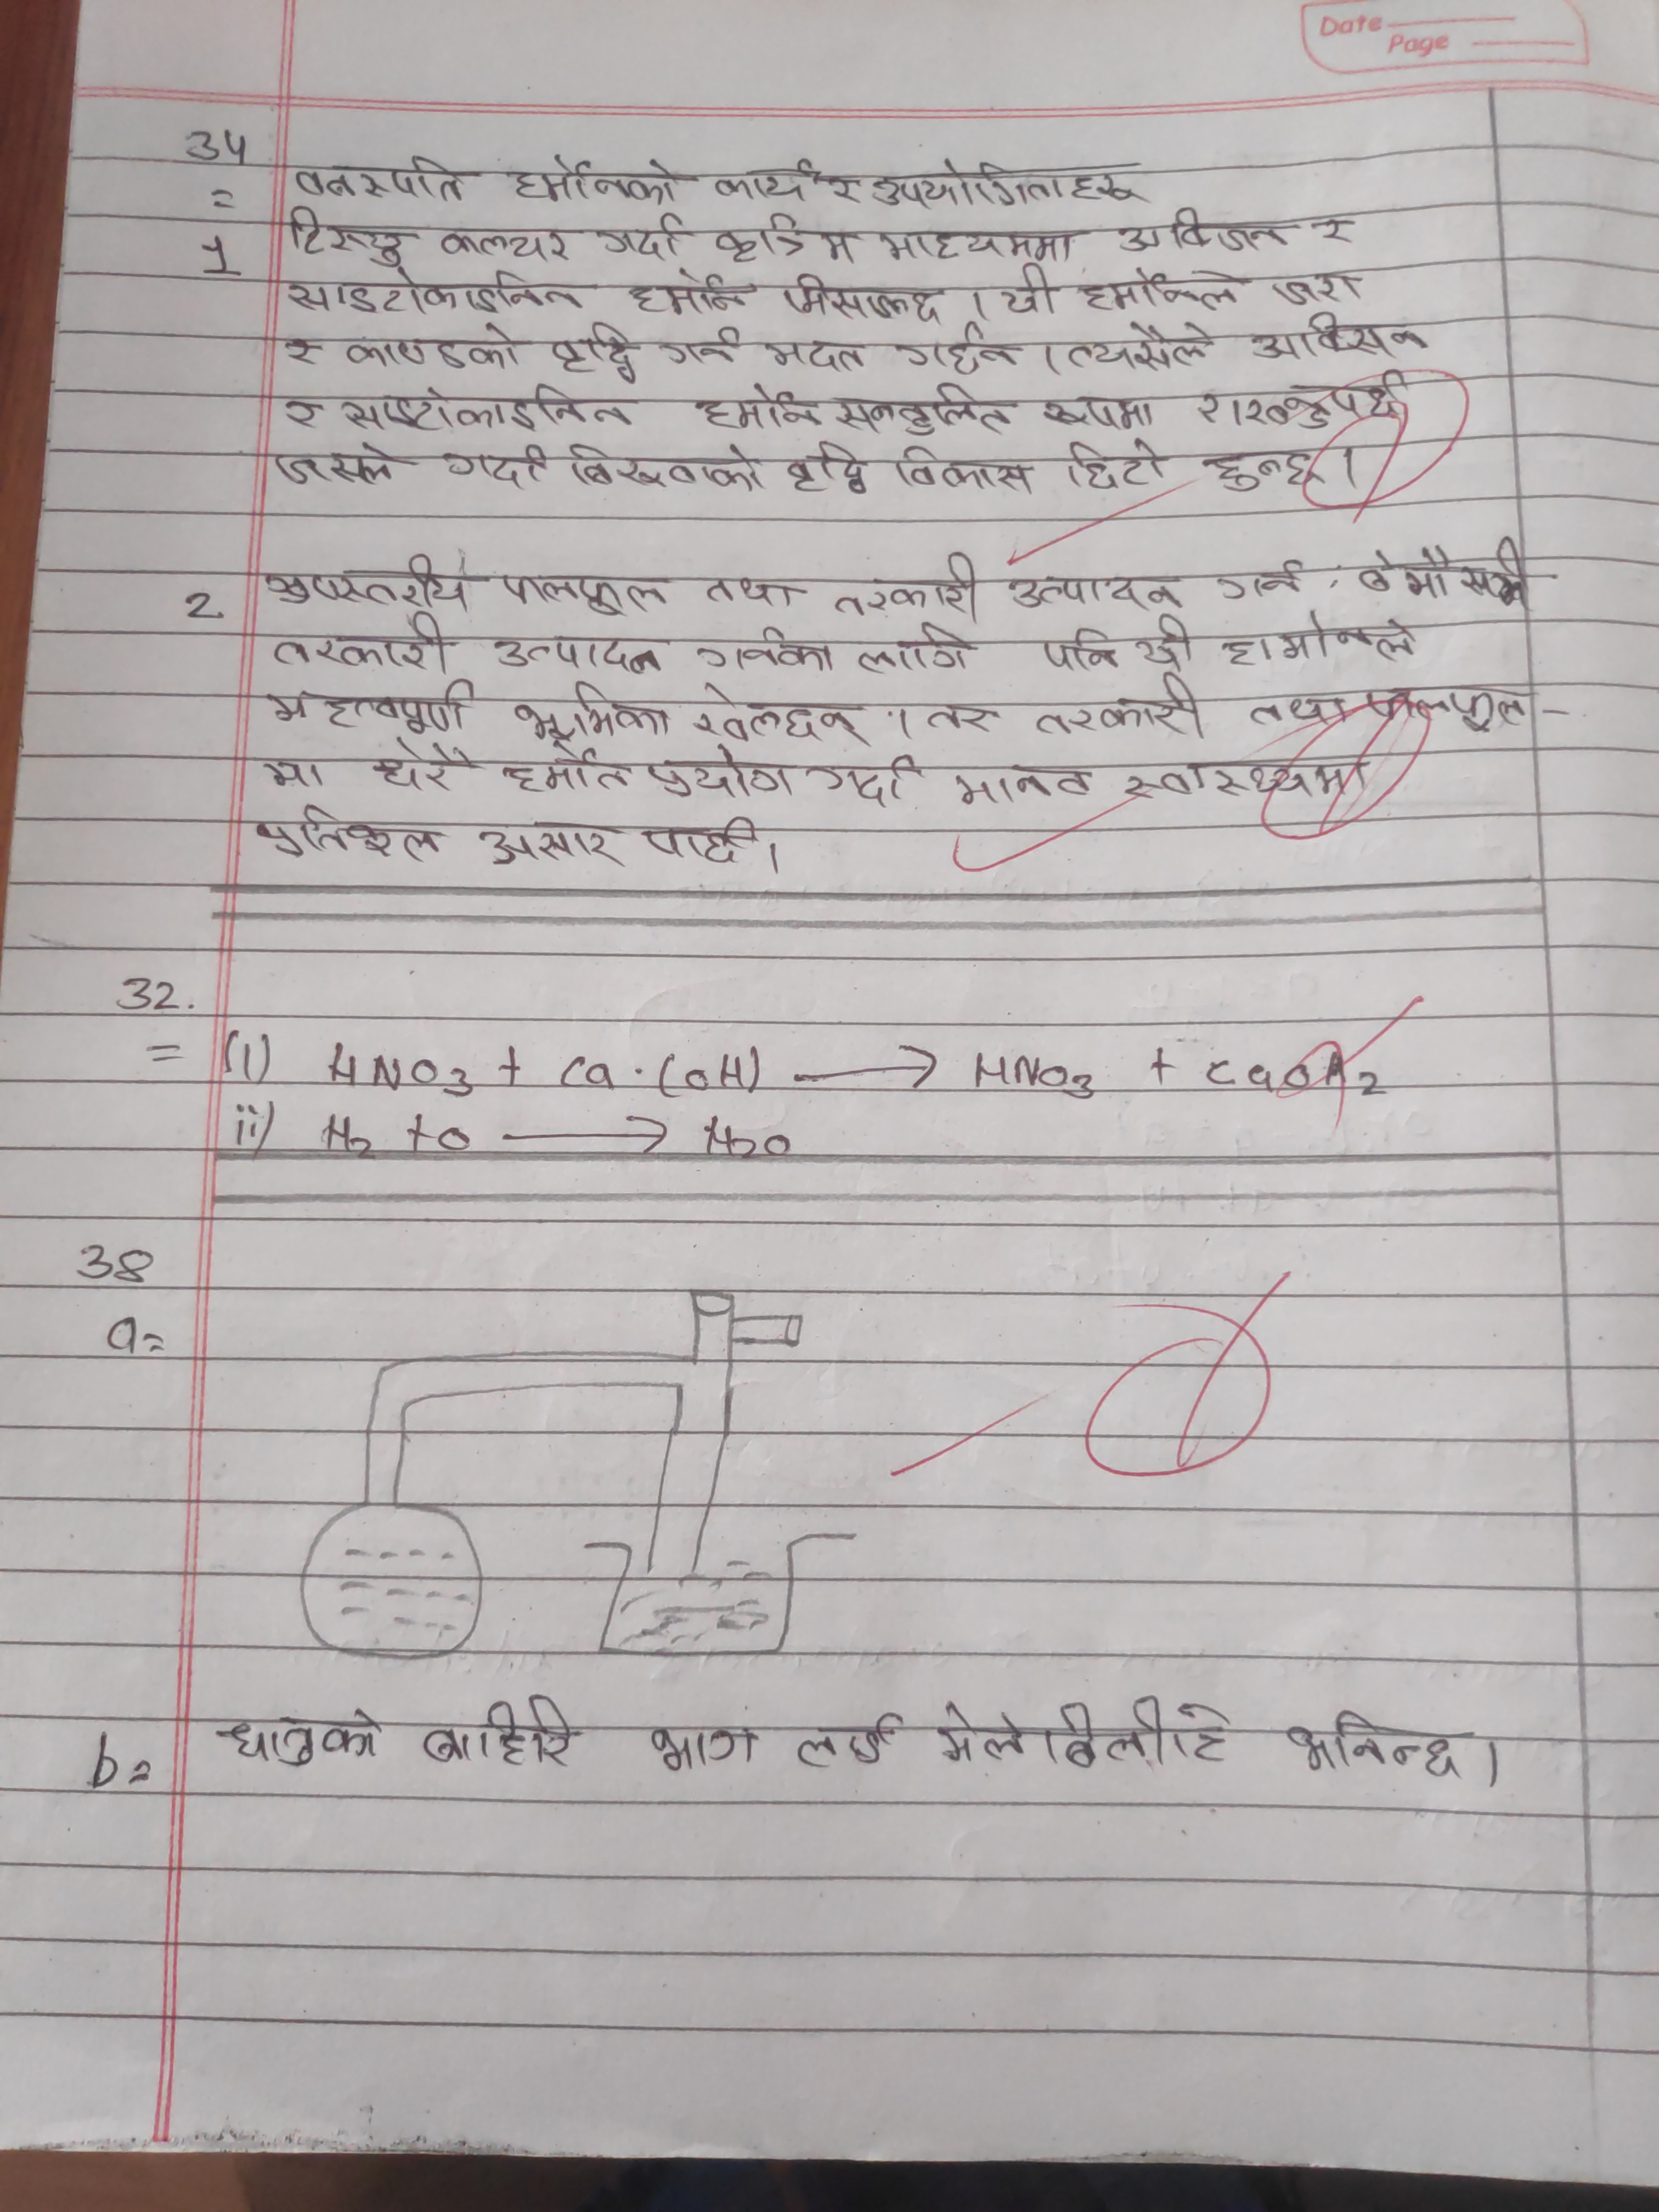text: (878, 152, 1152, 209), (335, 381, 634, 434), (1284, 1707, 1481, 1785), (1054, 1695, 1236, 1778), (687, 676, 875, 749), (279, 272, 596, 312), (422, 1696, 587, 1773), (261, 550, 474, 610), (249, 799, 444, 864), (1194, 373, 1403, 430), (502, 148, 699, 209), (566, 435, 769, 495), (1030, 674, 1209, 740), (291, 152, 486, 211), (261, 683, 474, 737), (505, 683, 669, 749), (833, 549, 981, 622), (1347, 542, 1530, 601), (830, 381, 1023, 437), (223, 1702, 389, 1766), (1124, 756, 1366, 799), (268, 615, 450, 672), (779, 268, 948, 329), (338, 319, 526, 371), (486, 631, 673, 681), (498, 564, 669, 618), (1073, 265, 1243, 319), (997, 564, 1188, 611), (643, 747, 795, 806), (1370, 679, 1537, 732), (880, 444, 1044, 496), (1108, 207, 1290, 254), (1058, 320, 1218, 373), (617, 261, 760, 319), (875, 223, 1087, 261), (1243, 312, 1422, 357), (1270, 610, 1415, 665), (694, 625, 835, 681), (890, 320, 1030, 376), (272, 435, 411, 491), (289, 207, 410, 272), (479, 820, 626, 871), (643, 808, 760, 871), (366, 732, 479, 796), (502, 742, 633, 798), (955, 759, 1089, 813), (647, 1717, 763, 1778), (711, 212, 859, 260), (540, 315, 645, 381), (857, 624, 979, 679), (793, 1710, 908, 1768), (694, 380, 824, 430), (437, 216, 577, 261), (934, 1702, 1026, 1768), (1197, 444, 1326, 491), (1058, 437, 1169, 491), (805, 758, 924, 805), (784, 439, 870, 500), (652, 320, 751, 369), (709, 158, 824, 200), (1033, 625, 1122, 679), (439, 444, 549, 488), (763, 338, 880, 378), (1209, 557, 1312, 603), (701, 571, 807, 615), (1039, 394, 1159, 432), (596, 211, 687, 258), (1265, 266, 1366, 308), (1244, 693, 1352, 730), (995, 263, 1061, 320), (922, 698, 1009, 740), (256, 751, 336, 796), (1131, 615, 1195, 667), (275, 388, 328, 430), (277, 331, 329, 371), (1314, 209, 1361, 251), (824, 167, 868, 209), (1223, 627, 1260, 672)
